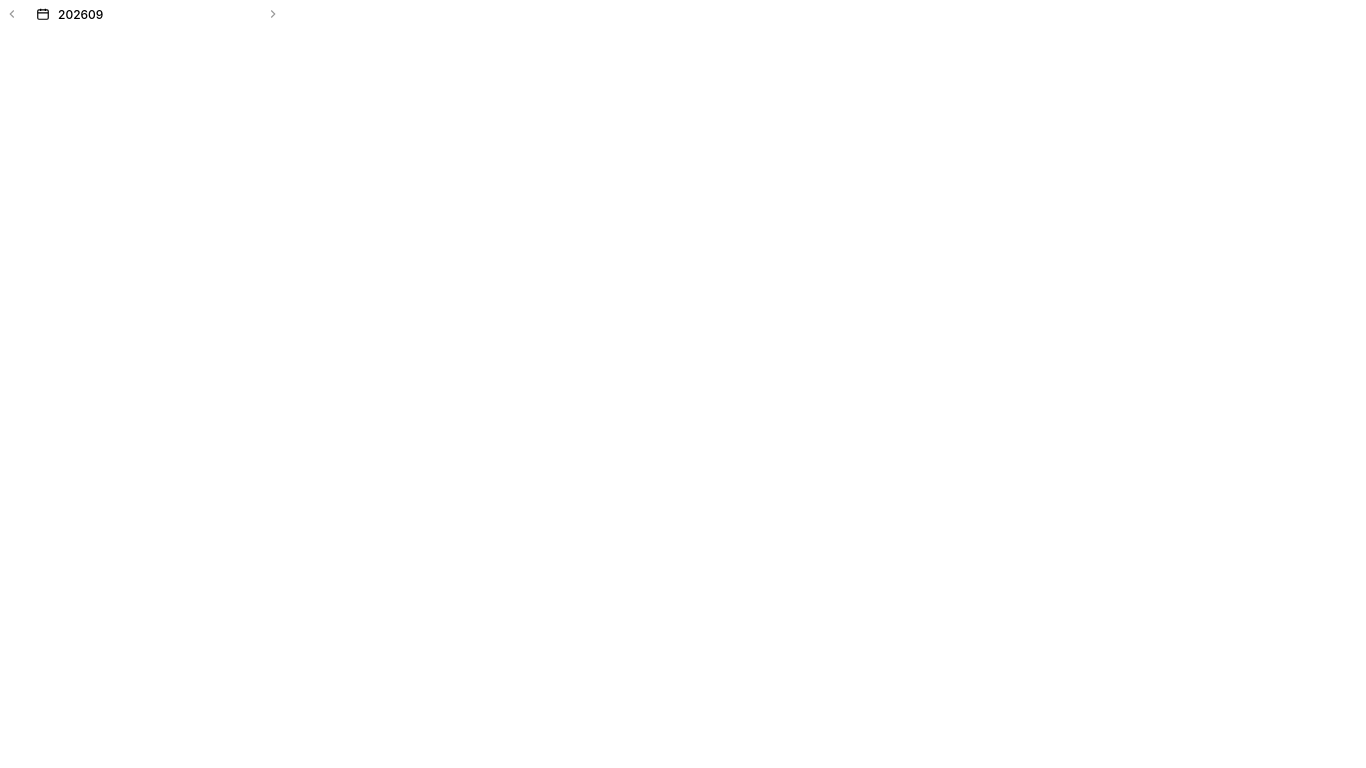
Test case: PeriodPicker: Enter підтверджує — blur і назва › квартальний проєкт: Enter → blur і назва кварталу
The image size is (1366, 768).
Click the field named "⟦documents.period⟧": (154, 14) [57,0,251,28]
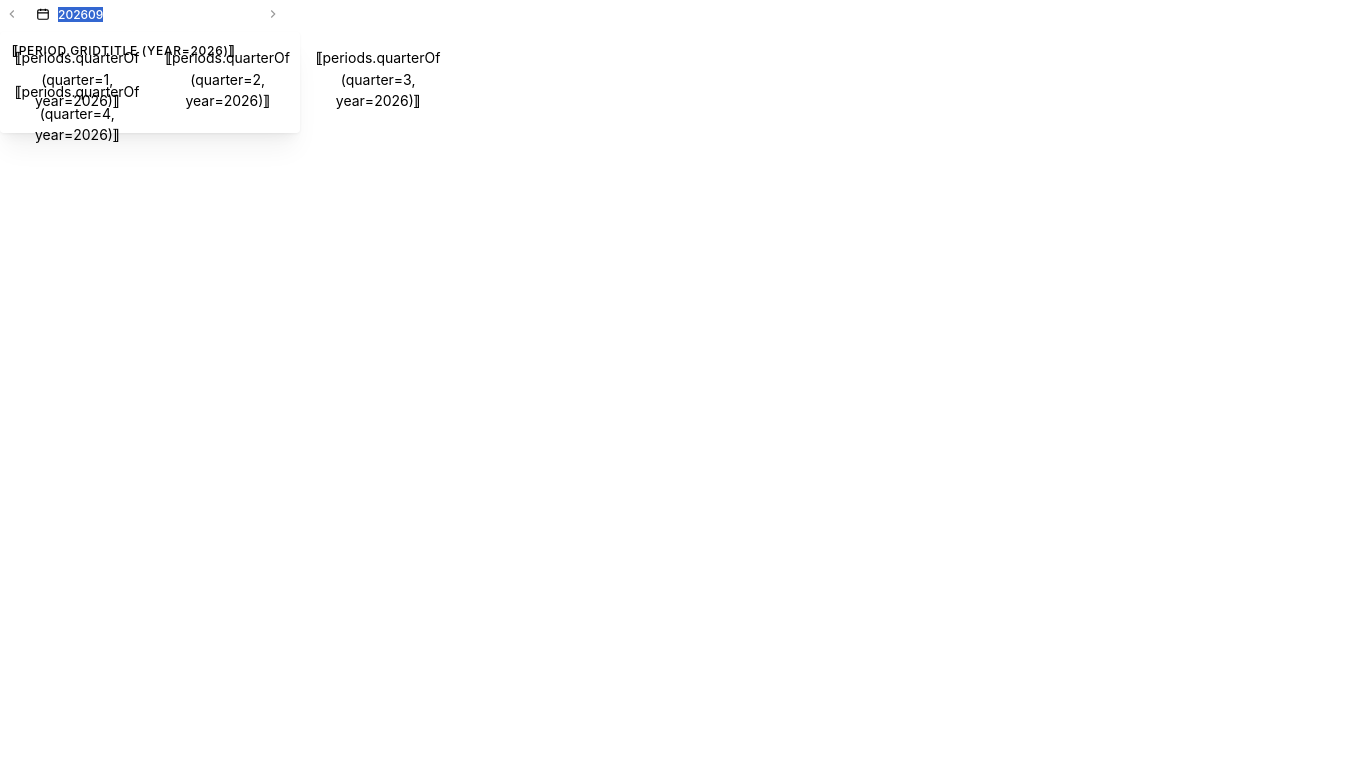
Type keys "202603{Enter}"
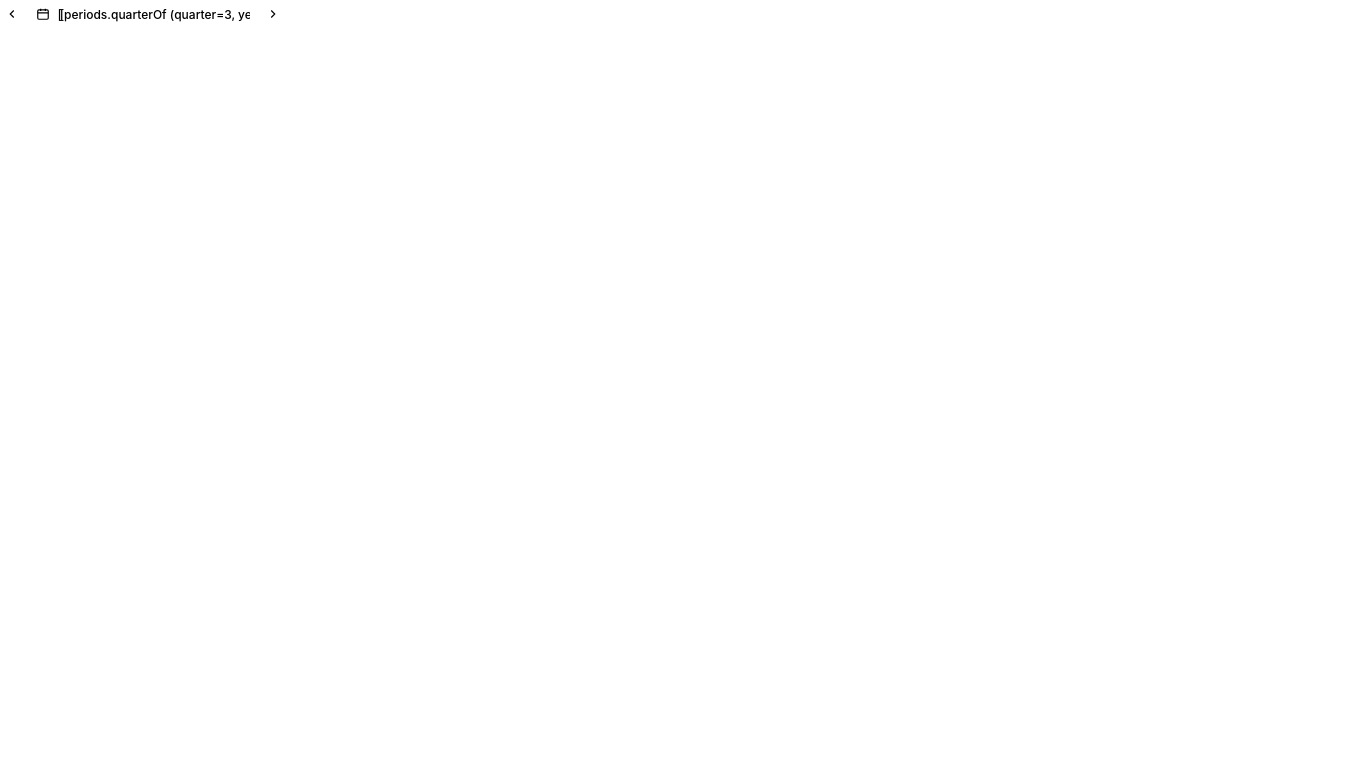
Check: the field named "⟦documents.period⟧" does not hold "202603", box [57,0,251,28]
